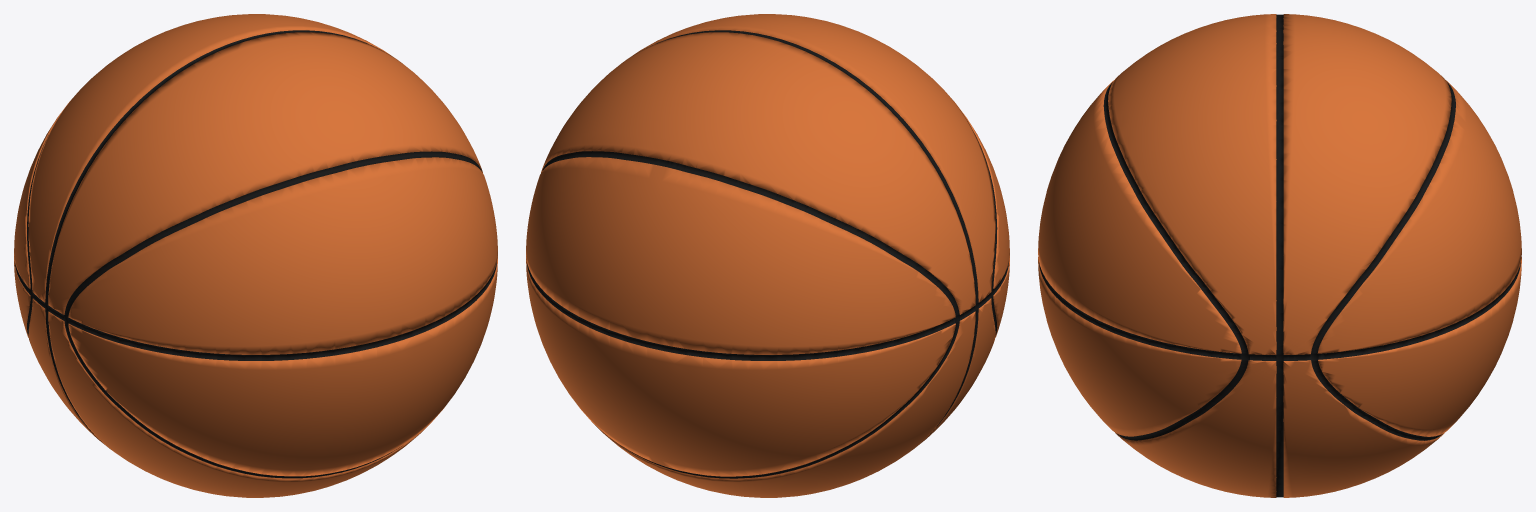
Rendered from basketball new11.fbx.
3 renders of one model, left to right at view 1: azimuth 30°, elevation 25°; view 2: azimuth 150°, elevation 25°; view 3: azimuth 270°, elevation 25°, orthographic.
Visible parts, largest first — view 1: basketball; view 2: basketball; view 3: basketball.
Boxes of the visible parts, box(x1,y1,x2,y2) form: basketball: box(14, 14, 497, 497); basketball: box(526, 14, 1009, 497); basketball: box(1038, 14, 1521, 497).
Size of the model in its own units: 200 by 200 by 200.
